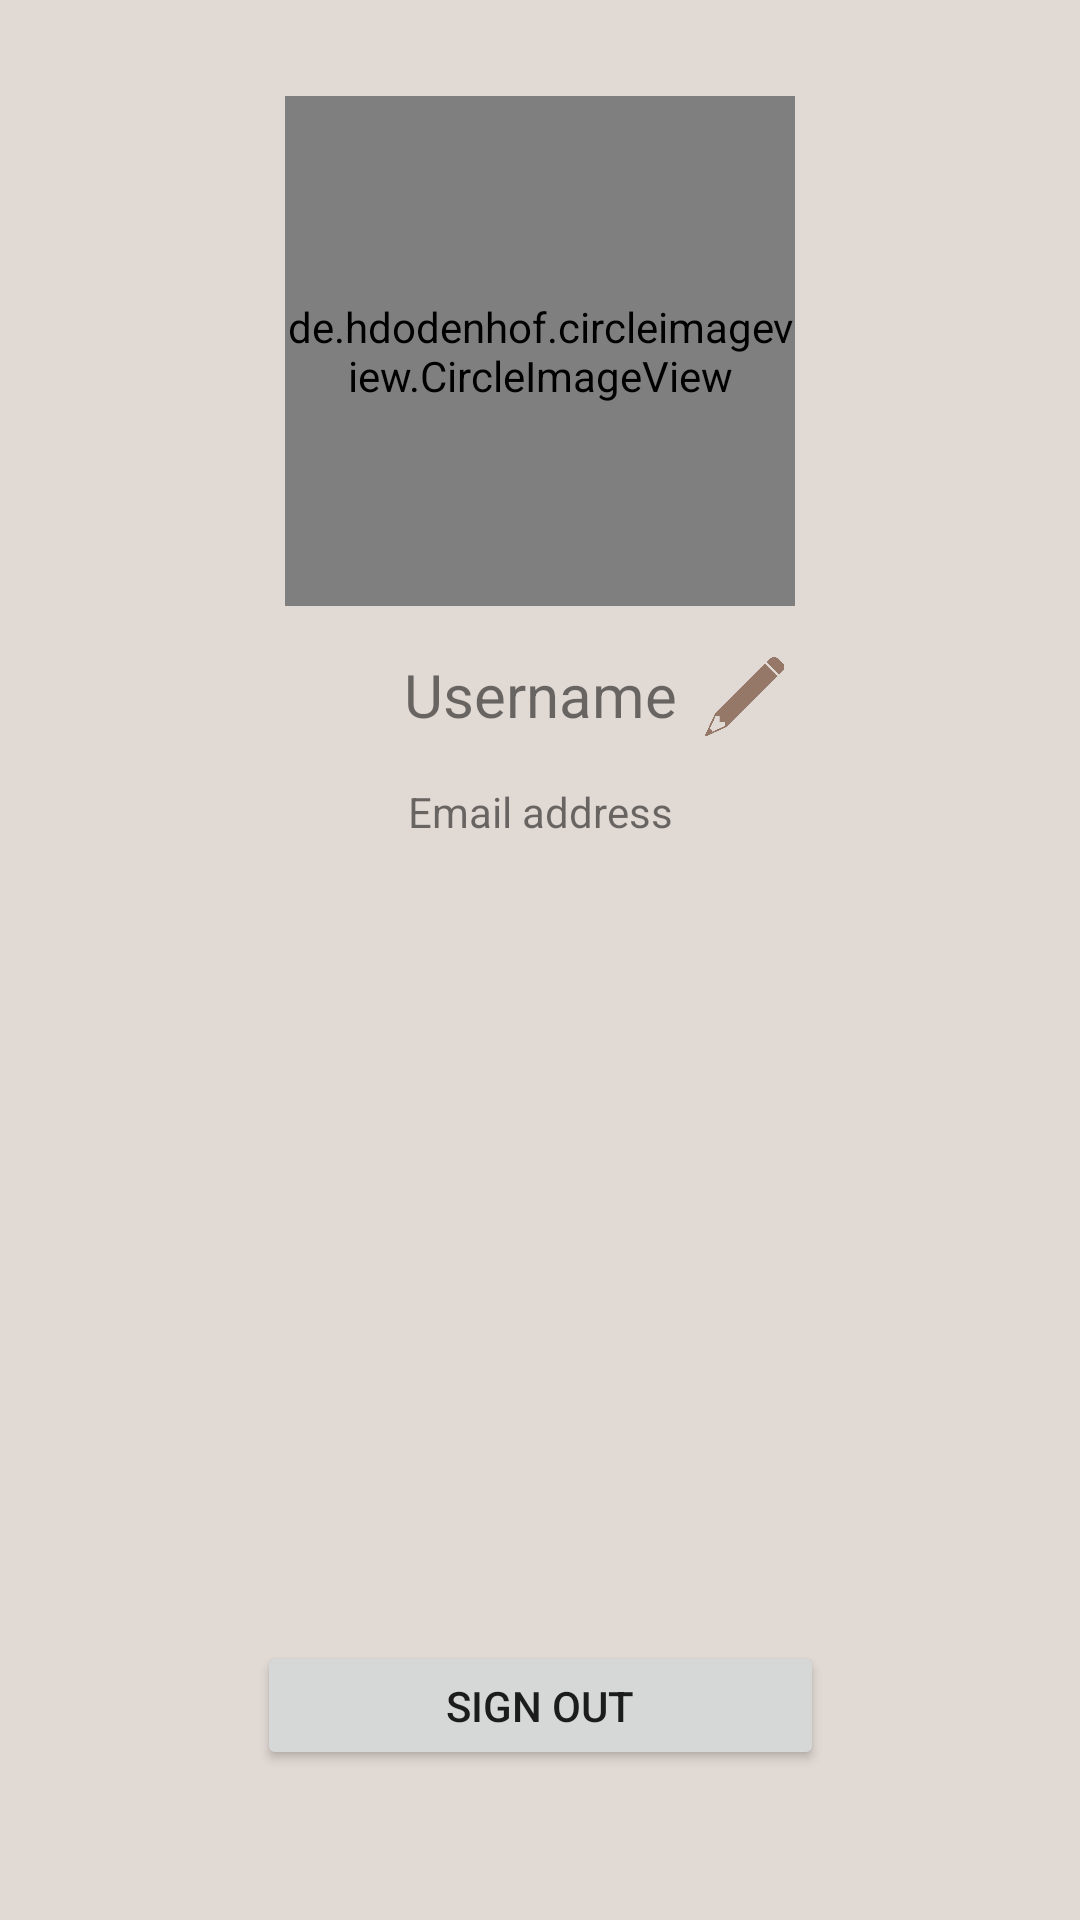

Screen size 1080w x 1920h. Icon name, then its box in pixels as (x1, y1, x2, y2):
pencilicon: (705, 657, 784, 736)
